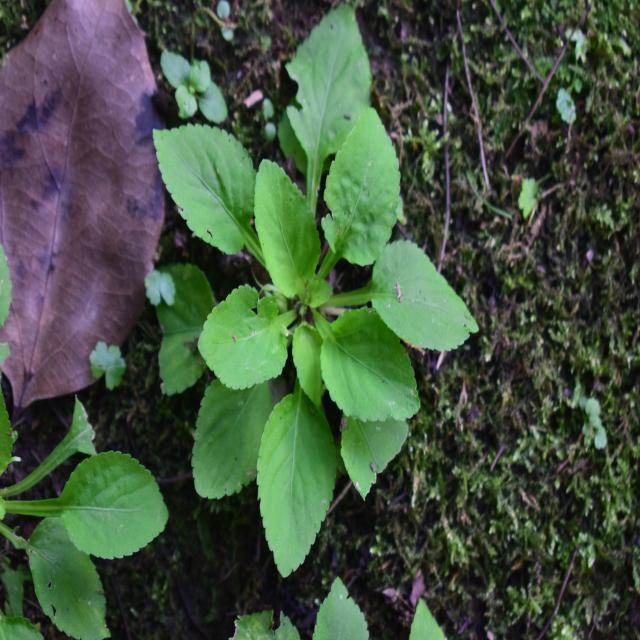Viola: (166, 83, 482, 541)
